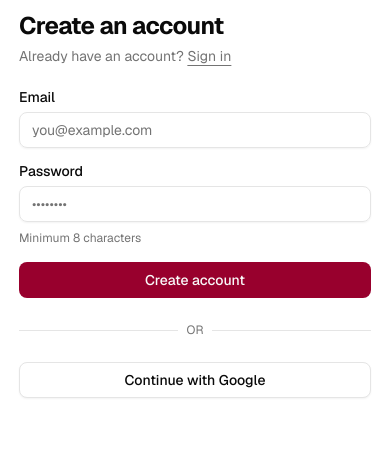
Scenario: SignUpPage › shows error on sign-up failure
Type "taken@example.com" into the field labelled "Email" at (195, 130), box [19,112,371,148]
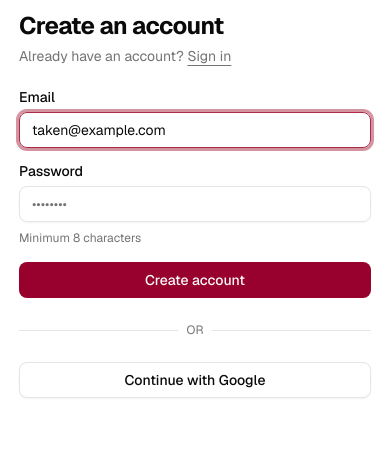
Type "password123" into the password field labelled "Password" at (195, 204), box [19,186,371,222]
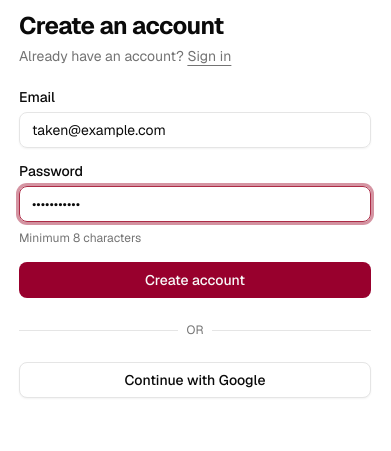
Click the button "Create account" at (195, 280), box [19,262,371,298]
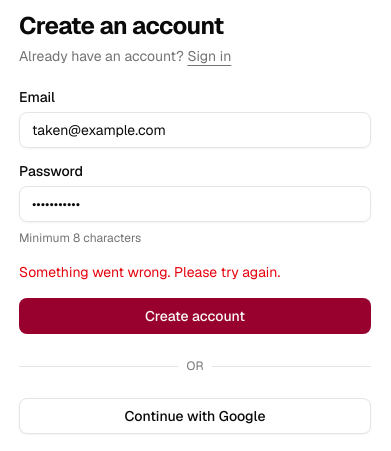
Check: the text "Something went wrong. Please try again." is shown, box [19,263,280,281]
